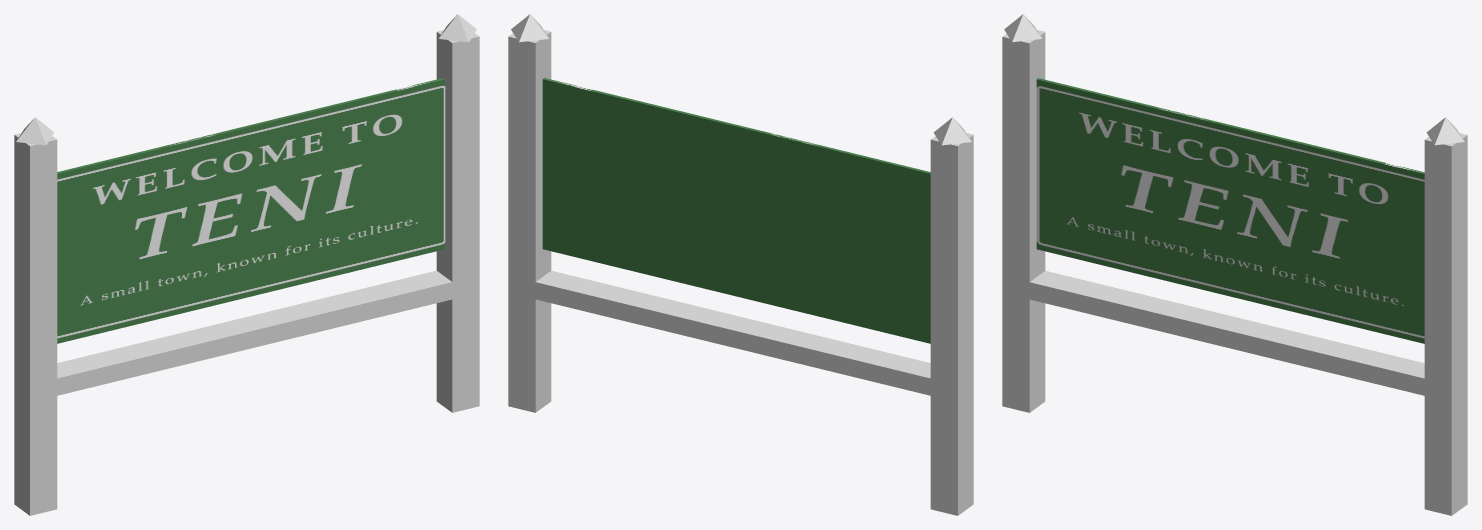
The model's file is townSign.fbx.
The picture shows the model from 3 angles, left to right: view 1: azimuth 30°, elevation 25°; view 2: azimuth 150°, elevation 25°; view 3: azimuth 330°, elevation 25°; orthographic projection.
Parts seen in each view (by area): view 1: pCube3, pCube1, pCube2, pCube4, pPyramid1, pPyramid2; view 2: pCube3, pCube1, pCube2, pCube4, pPyramid1, pPyramid2; view 3: pCube3, pCube2, pCube1, pCube4, pPyramid1, pPyramid2.
Boxes of the visible parts, x1,y1,x2,y2 form: pCube3: [57, 78, 445, 343]; pCube1: [14, 133, 57, 515]; pCube2: [436, 30, 479, 412]; pCube4: [51, 270, 458, 395]; pPyramid1: [16, 117, 54, 145]; pPyramid2: [438, 14, 476, 42]; pCube3: [542, 78, 930, 343]; pCube1: [930, 133, 973, 515]; pCube2: [508, 30, 551, 412]; pCube4: [535, 270, 936, 395]; pPyramid1: [933, 117, 971, 145]; pPyramid2: [511, 14, 549, 42]; pCube3: [1036, 78, 1424, 343]; pCube2: [1424, 133, 1467, 515]; pCube1: [1002, 30, 1045, 412]; pCube4: [1023, 270, 1424, 395]; pPyramid1: [1004, 14, 1042, 42]; pPyramid2: [1426, 117, 1464, 145].
Bounding box in the file's own units: 16.92 × 13.67 × 1.41.
Materials: 2 (1 with a texture image).
